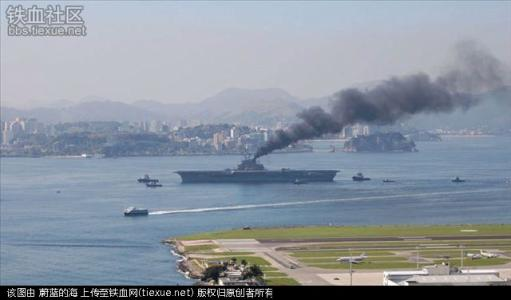smoke: (249, 50, 500, 160)
